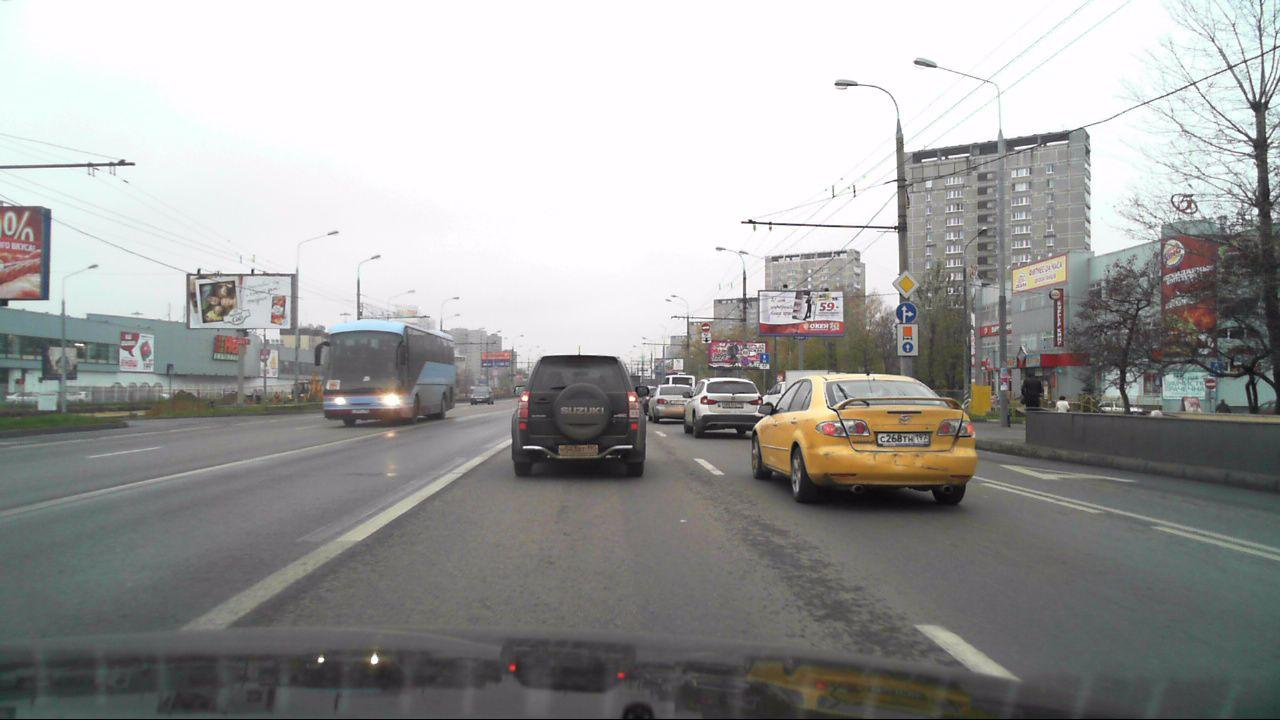2_1: (891, 270, 920, 299)
3_1: (701, 323, 711, 332)
3_24: (741, 347, 750, 357)
3_27: (741, 357, 749, 366)
4_1_4: (896, 302, 917, 324)
4_8_1: (897, 324, 918, 356)
5_14_1: (759, 353, 770, 363)
8_14: (700, 338, 712, 343)
8_5_2: (760, 363, 770, 369), (700, 333, 712, 338)
